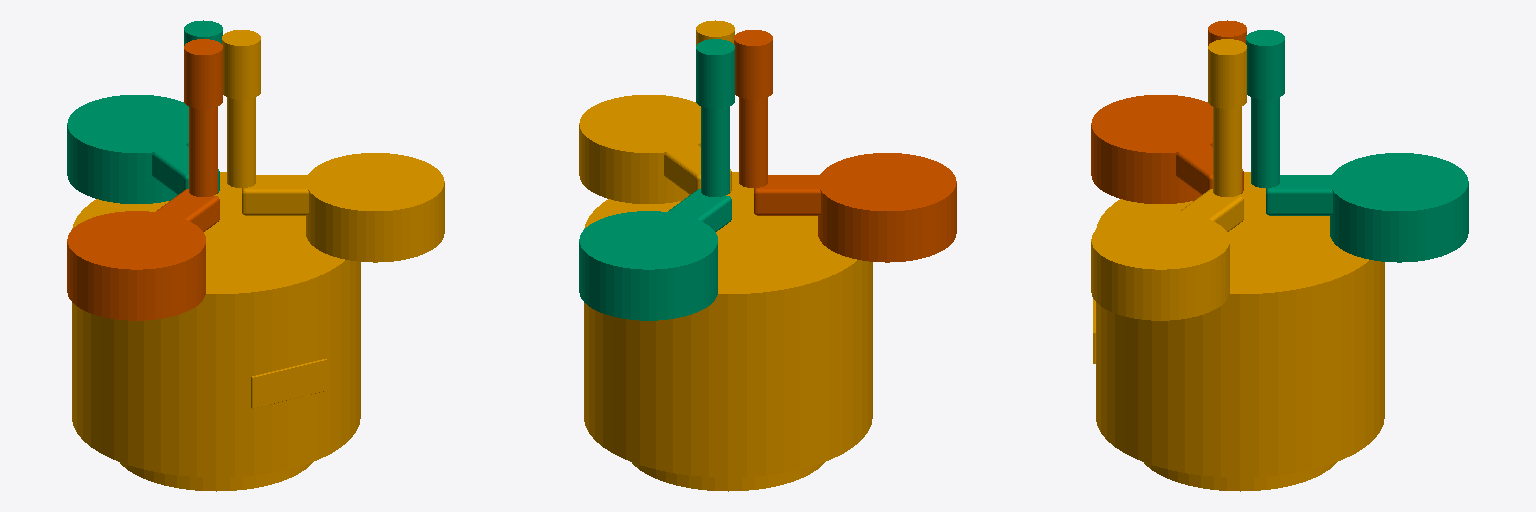
The robot description file, URDF, robot "onrobot_3fg15_103666":
<?xml version="1.0"?>
<robot name="onrobot_3fg15_103666">
<link name="mount"><visual ><geometry ><mesh filename="../meshes/mount.obj"/></geometry></visual><collision ><origin xyz="0 0 0.006" rpy="0 0 0"/><geometry ><cylinder radius="0.0355" length="0.012"/></geometry></collision><collision ><origin xyz="0 0 0.047" rpy="0 0 0"/><geometry ><cylinder radius="0.05" length="0.07"/></geometry></collision></link>
<link name="finger_1_origin"></link>
<link name="finger_1"><visual ><geometry ><mesh filename="../meshes/finger_1.obj"/></geometry></visual><collision ><origin xyz="0 0 0.00975" rpy="0 0 0"/><geometry ><cylinder radius="0.024" length="0.0195"/></geometry></collision><collision ><origin xyz="0.023125 0 0.0145" rpy="0 0 0"/><geometry ><box size="0.04625 0.014 0.01"/></geometry></collision><collision ><origin xyz="0.04625 0 0.047" rpy="0 0 0"/><geometry ><cylinder radius="0.00675" length="0.055"/></geometry></collision></link>
<link name="finger_1_tip"></link>
<link name="finger_2_origin"></link>
<link name="finger_2"><visual ><geometry ><mesh filename="../meshes/finger_2.obj"/></geometry></visual><collision ><origin xyz="0 0 0.00975" rpy="0 0 0"/><geometry ><cylinder radius="0.024" length="0.0195"/></geometry></collision><collision ><origin xyz="0.023125 0 0.0145" rpy="0 0 0"/><geometry ><box size="0.04625 0.014 0.01"/></geometry></collision><collision ><origin xyz="0.04625 0 0.047" rpy="0 0 0"/><geometry ><cylinder radius="0.00675" length="0.055"/></geometry></collision></link>
<link name="finger_2_tip"></link>
<link name="finger_3_origin"></link>
<link name="finger_3"><visual ><geometry ><mesh filename="../meshes/finger_3.obj"/></geometry></visual><collision ><origin xyz="0 0 0.00975" rpy="0 0 0"/><geometry ><cylinder radius="0.024" length="0.0195"/></geometry></collision><collision ><origin xyz="0.023125 0 0.0145" rpy="0 0 0"/><geometry ><box size="0.04625 0.014 0.01"/></geometry></collision><collision ><origin xyz="0.04625 0 0.047" rpy="0 0 0"/><geometry ><cylinder radius="0.00675" length="0.055"/></geometry></collision></link>
<link name="finger_3_tip"></link>
<link name="tcp"></link>
<joint name="finger_1_origin_joint" type="fixed"><parent link="mount"/><child link="finger_1_origin"/><origin xyz="3.36777869766e-18 0.055 0.082" rpy="0 0 4.71238898038"/></joint>
<joint name="finger_joint" type="revolute"><parent link="finger_1_origin"/><child link="finger_1"/><origin xyz="0 0 0" rpy="0 0 0"/><axis xyz="0 0 1"/><limit lower="0" upper="1.9080631037455023" velocity="1" effort="5.3"/></joint>
<joint name="finger_1_tip_joint" type="fixed"><parent link="finger_1"/><child link="finger_1_tip"/><origin xyz="0.04625 0 0.0645" rpy="0 0 0"/></joint>
<joint name="finger_2_origin_joint" type="fixed"><parent link="mount"/><child link="finger_2_origin"/><origin xyz="-0.0476313972081 -0.0275 0.082" rpy="0 0 6.80678408278"/></joint>
<joint name="finger_2_mimic_joint" type="revolute"><parent link="finger_2_origin"/><child link="finger_2"/><origin xyz="0 0 0" rpy="0 0 0"/><axis xyz="0 0 1"/><limit lower="0" upper="1.9080631037455023" velocity="1" effort="5.3"/><mimic joint="finger_joint" multiplier="1" offset="0"/></joint>
<joint name="finger_2_tip_joint" type="fixed"><parent link="finger_2"/><child link="finger_2_tip"/><origin xyz="0.04625 0 0.0645" rpy="0 0 0"/></joint>
<joint name="finger_3_origin_joint" type="fixed"><parent link="mount"/><child link="finger_3_origin"/><origin xyz="0.0476313972081 -0.0275 0.082" rpy="0 0 8.90117918517"/></joint>
<joint name="finger_3_mimic_joint" type="revolute"><parent link="finger_3_origin"/><child link="finger_3"/><origin xyz="0 0 0" rpy="0 0 0"/><axis xyz="0 0 1"/><limit lower="0" upper="1.9080631037455023" velocity="1" effort="5.3"/><mimic joint="finger_joint" multiplier="1" offset="0"/></joint>
<joint name="finger_3_tip_joint" type="fixed"><parent link="finger_3"/><child link="finger_3_tip"/><origin xyz="0.04625 0 0.0645" rpy="0 0 0"/></joint>
<joint name="tcp_joint" type="fixed"><parent link="mount"/><child link="tcp"/><origin xyz="0 0 0.1465" rpy="0 0 0"/></joint>
</robot>

--- What the picture shows (computed from the rendered views, not written in the file) ---
Views: 3 orthographic renders of the robot side by side, from view 1: azimuth 30°, elevation 25°; view 2: azimuth 150°, elevation 25°; view 3: azimuth 270°, elevation 25°.
Model onrobot_3fg15_103666 with 11 links and 10 joints (3 revolute, 7 fixed), rooted at mount, posed every joint at zero.
Visible links, largest first — view 1: mount, finger_3, finger_2, finger_1; view 2: mount, finger_2, finger_1, finger_3; view 3: mount, finger_1, finger_3, finger_2.
Boxes of the visible links, left/top/right/bottom form: mount: left=72, top=172, right=360, bottom=491; finger_3: left=222, top=30, right=444, bottom=262; finger_2: left=67, top=39, right=222, bottom=320; finger_1: left=67, top=20, right=222, bottom=203; mount: left=584, top=172, right=872, bottom=491; finger_2: left=734, top=30, right=956, bottom=262; finger_1: left=579, top=39, right=734, bottom=320; finger_3: left=579, top=20, right=734, bottom=203; mount: left=1093, top=172, right=1384, bottom=491; finger_1: left=1246, top=30, right=1468, bottom=262; finger_3: left=1091, top=39, right=1246, bottom=320; finger_2: left=1091, top=20, right=1246, bottom=203.
Size in the robot's own frame: 0.1433 by 0.1305 by 0.1565 metres.
4 mesh visuals loaded from 4 distinct referenced files (4 OBJ).
